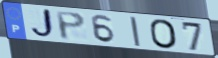6: (90, 14, 117, 44)
7: (180, 20, 205, 52)
I: (128, 16, 142, 48)
J: (29, 8, 57, 41)
O: (148, 18, 180, 50)
P: (54, 11, 87, 42)
